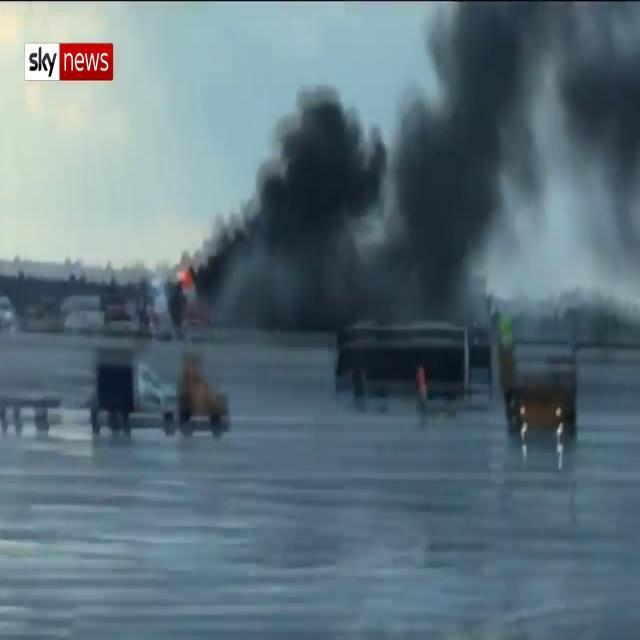Smoke: (196, 1, 640, 362)
